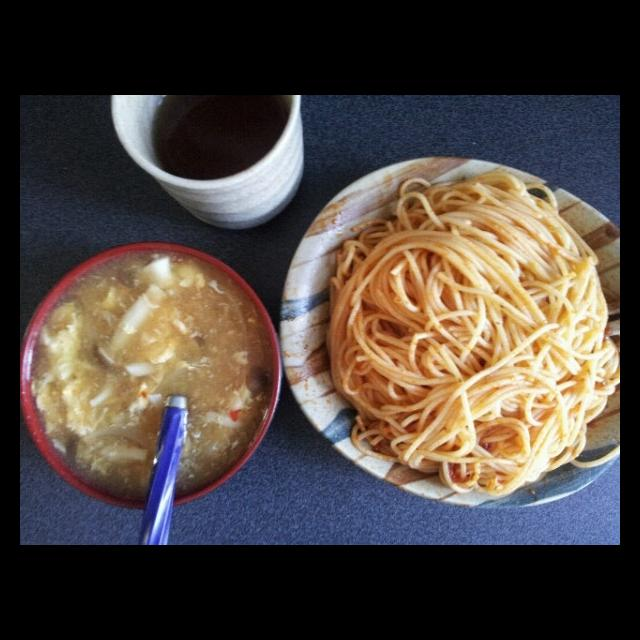noodles: (325, 173, 619, 499)
